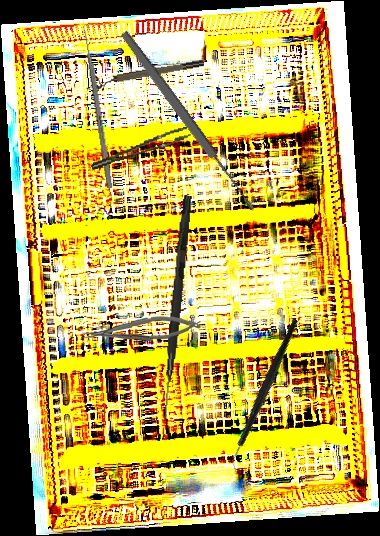Chopper: (187, 317, 344, 476)
Fixation Ring: (92, 57, 205, 91)
Hook Surgical: (161, 194, 192, 421)
Needle Holder: (81, 313, 202, 345)
Pusher: (80, 19, 114, 189)
Surgical Spoon: (118, 28, 258, 215)
Tissue Forceps: (87, 126, 194, 170)
